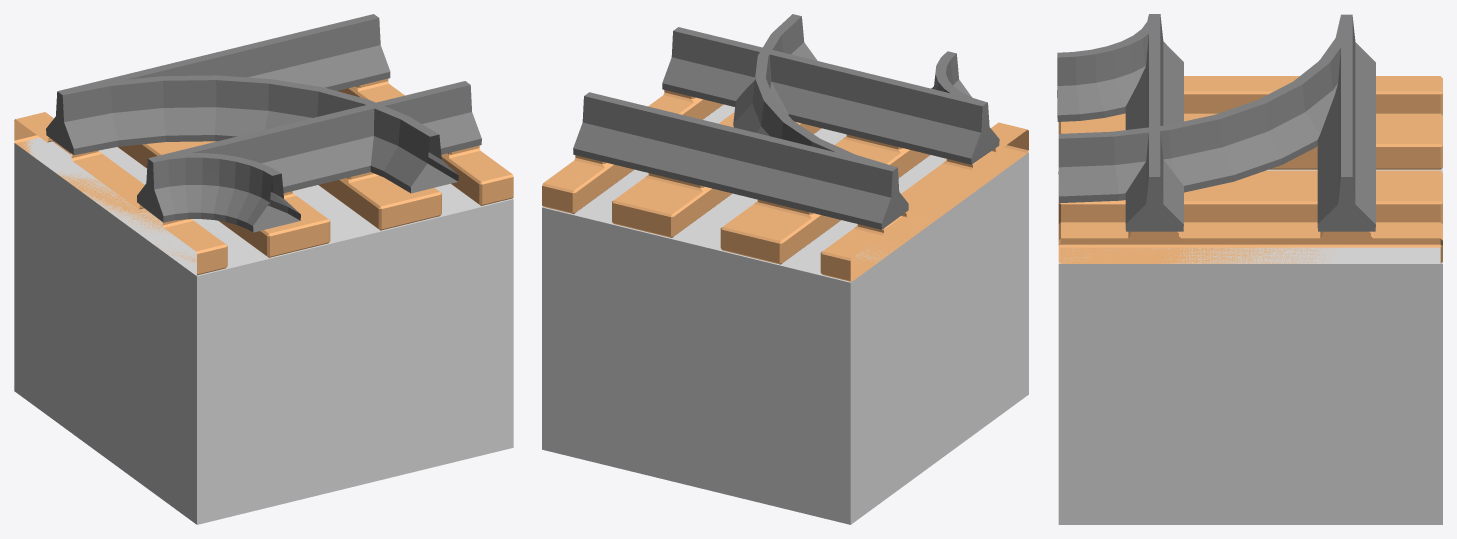
Rendered from Rail_Angle_002.fbx.
The picture shows the model from 3 angles, left to right: view 1: azimuth 30°, elevation 25°; view 2: azimuth 150°, elevation 25°; view 3: azimuth 270°, elevation 25°; orthographic projection. The views are drawn at different scales.
Visible parts, largest first — view 1: Rail Angle.002; view 2: Rail Angle.002; view 3: Rail Angle.002.
Part boxes in pixels (left/top/right/bottom): Rail Angle.002: left=14, top=14, right=513, bottom=524; Rail Angle.002: left=542, top=14, right=1028, bottom=524; Rail Angle.002: left=1057, top=14, right=1442, bottom=524.
Size of the model in its own units: 101 by 100 by 100.
